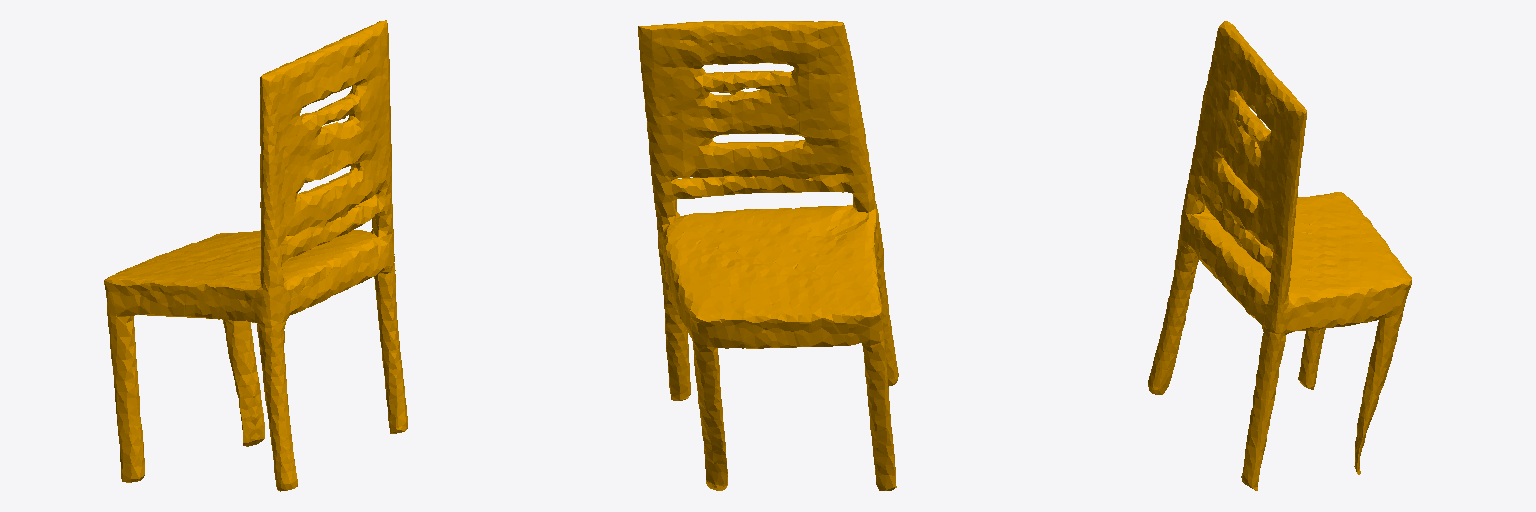
URDF robot description (model_1778240222):
<?xml version="1.0" ?>
<robot name="model_1778240222">
  <link name="base_link">
    <inertial>
      <origin xyz="-0.07450686606500921 -0.009915415125627065 2.3852107973558536" rpy="0 0 0"/>
      <mass value="2.816068158467517"/>
      <inertia ixx="3.1791570056208522" ixy="-0.5665827991502594" ixz="-0.069968647430201" iyy="2.4728826672698556" iyz="-0.531904983253136" izz="3.808470957303625"/>
    </inertial>
    <visual>
      <origin xyz="0 0 2.5" rpy="0 0 0"/>
      <geometry>
        <mesh filename="visual.obj" scale="5.0 5.0 5.0"/>
      </geometry>
    </visual>
    <collision>
      <origin xyz="0 0 2.5" rpy="0 0 0"/>
      <geometry>
        <mesh filename="collision.obj" scale="5.0 5.0 5.0"/>
      </geometry>
    </collision>
  </link>
</robot>

--- Facts derived from the render (not from the file) ---
The picture shows the robot from 3 angles, left to right: view 1: azimuth 30°, elevation 25°; view 2: azimuth 150°, elevation 25°; view 3: azimuth 270°, elevation 25°; orthographic projection.
Model model_1778240222 with 1 links and 0 joints (none), rooted at base_link, posed every joint at zero.
Links seen in each view (by area): view 1: base_link; view 2: base_link; view 3: base_link.
Link boxes in pixels (x1,y1,x2,y2): base_link: (104,20,407,491); base_link: (638,21,898,490); base_link: (1148,21,1411,490).
Bounding box of the posed robot: 3.18 × 2.82 × 5 m (x, y, z).
1 mesh visuals loaded from 1 distinct referenced files (1 OBJ).
